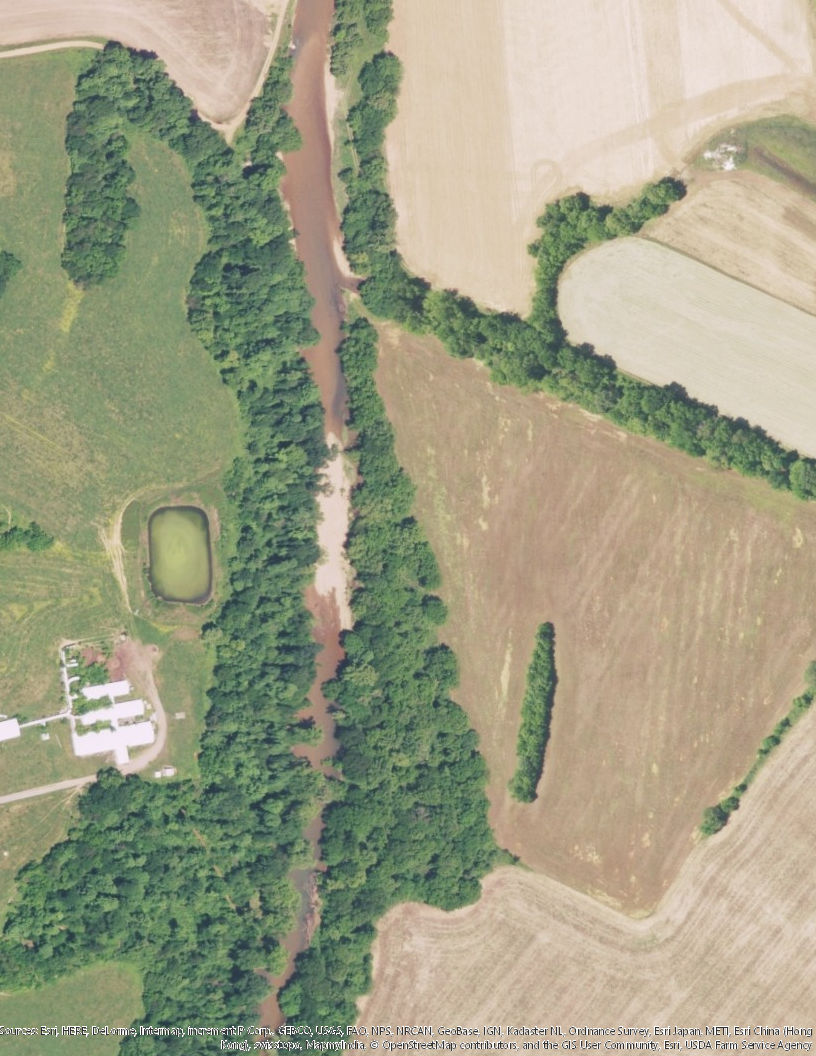cafo: (75, 723, 157, 755), (79, 699, 150, 730), (80, 683, 131, 700)
